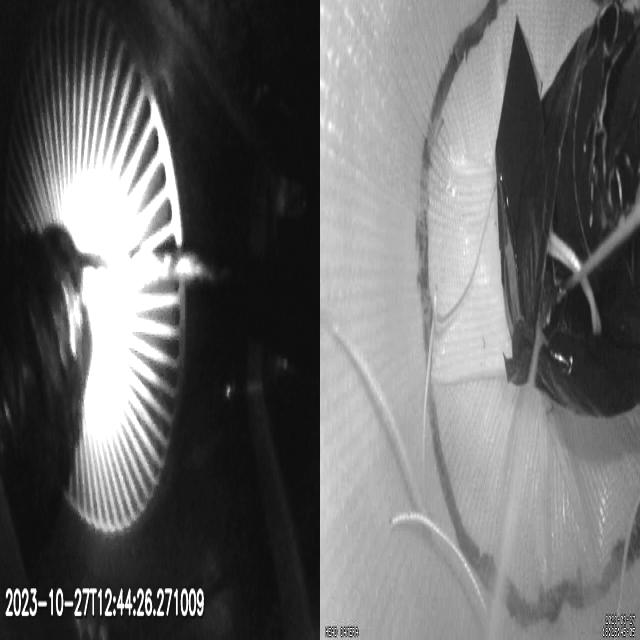red-circle: (416, 0, 640, 627)
